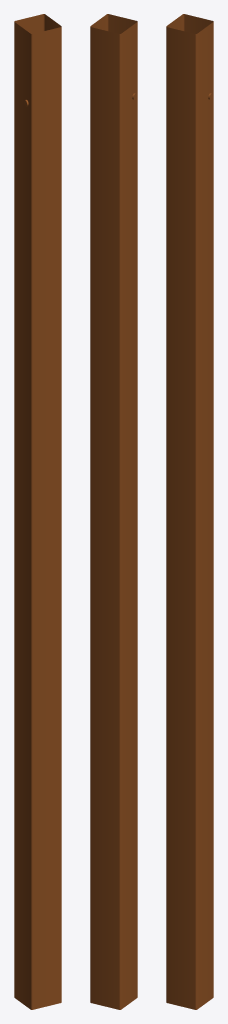
Rendered from stuetze.FBX.
3 views of the same model, side by side, from view 1: azimuth 30°, elevation 25°; view 2: azimuth 150°, elevation 25°; view 3: azimuth 330°, elevation 25° (orthographic).
Visible parts, largest first — view 1: stuetzeNeu; view 2: stuetzeNeu; view 3: stuetzeNeu.
Part boxes in pixels (left/top/right/bottom): stuetzeNeu: left=14, top=14, right=61, bottom=1009; stuetzeNeu: left=90, top=14, right=137, bottom=1009; stuetzeNeu: left=166, top=14, right=213, bottom=1009.
Size of the model in its own units: 1.1 by 30.23 by 1.
